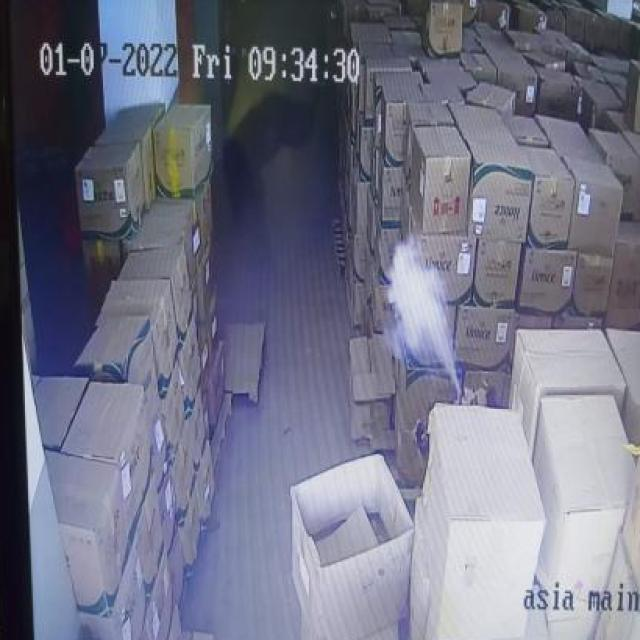fire: (380, 232, 457, 385)
